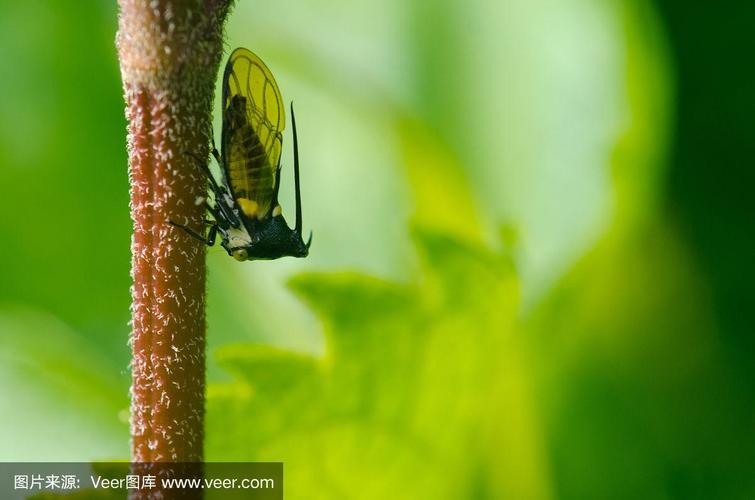Cicadellidae: (169, 49, 313, 263)
